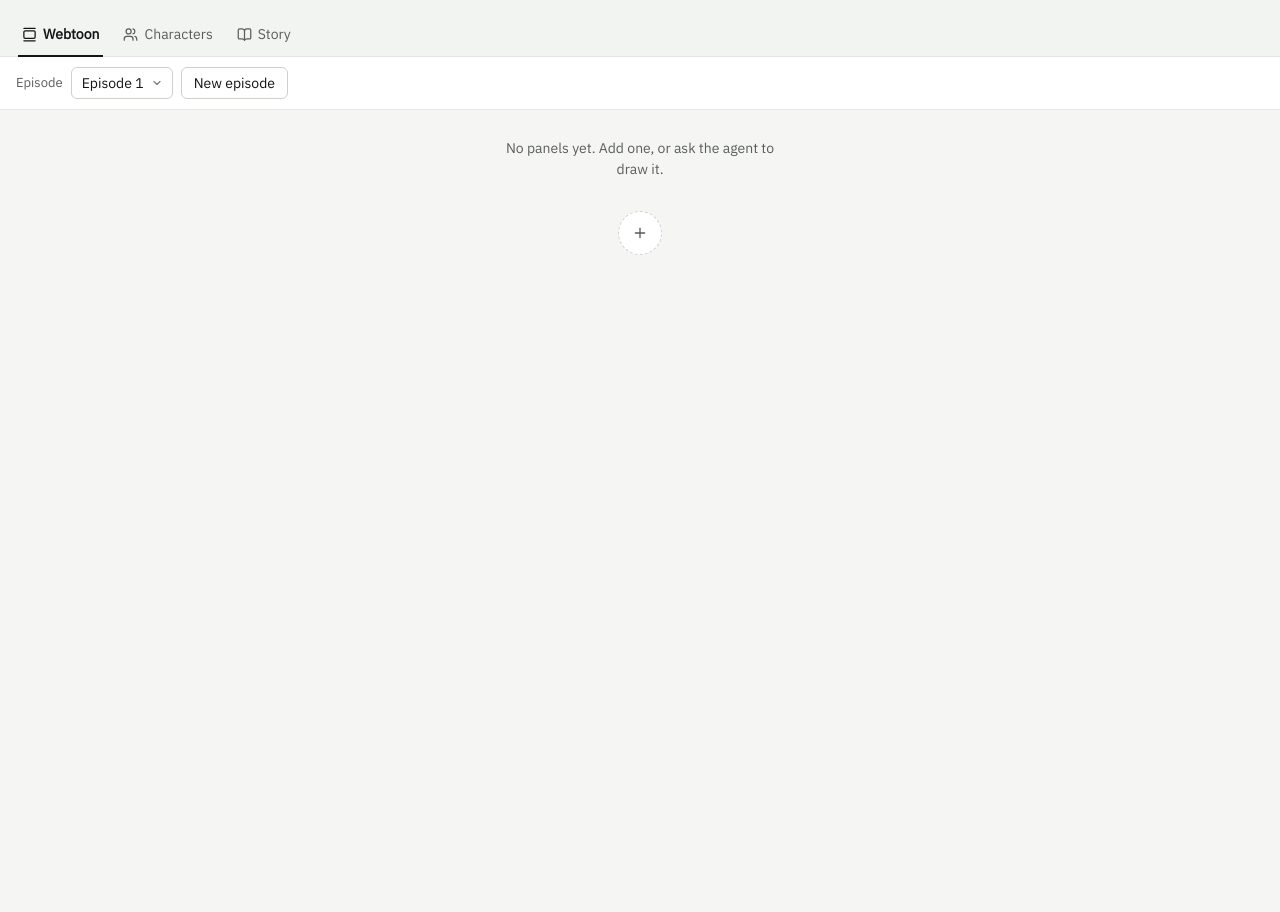
RightPane › switches between the Webtoon, Characters and Story tabs
Click the tab with test id "tab-characters" at (168, 34), box [114,12,223,56]
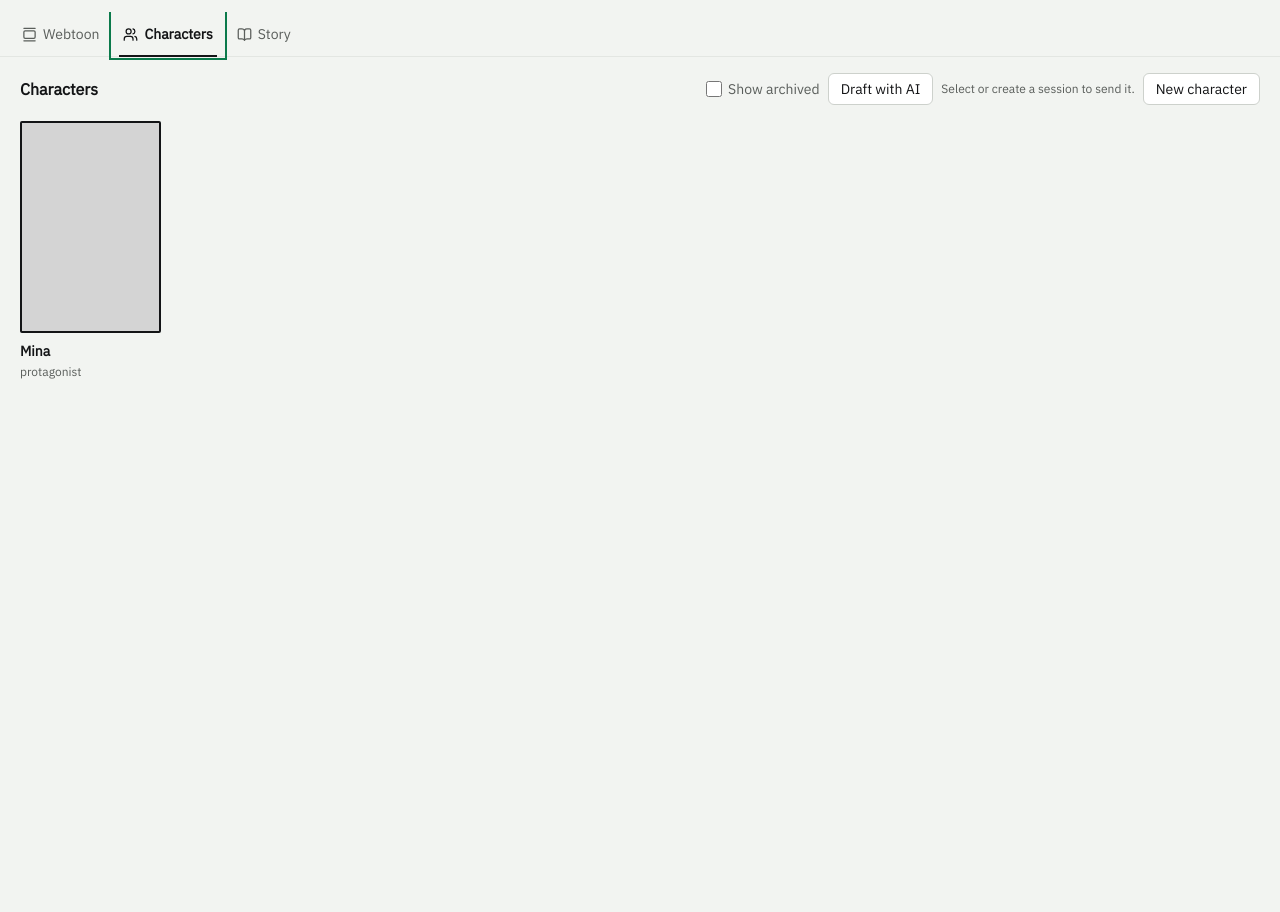
Expected: the tab with test id "tab-characters" is selected, [114,12,223,56]
Expected: the tab with test id "tab-webtoon" is not selected, [12,12,110,56]
Click the tab with test id "tab-story" at (264, 34), box [227,12,301,56]
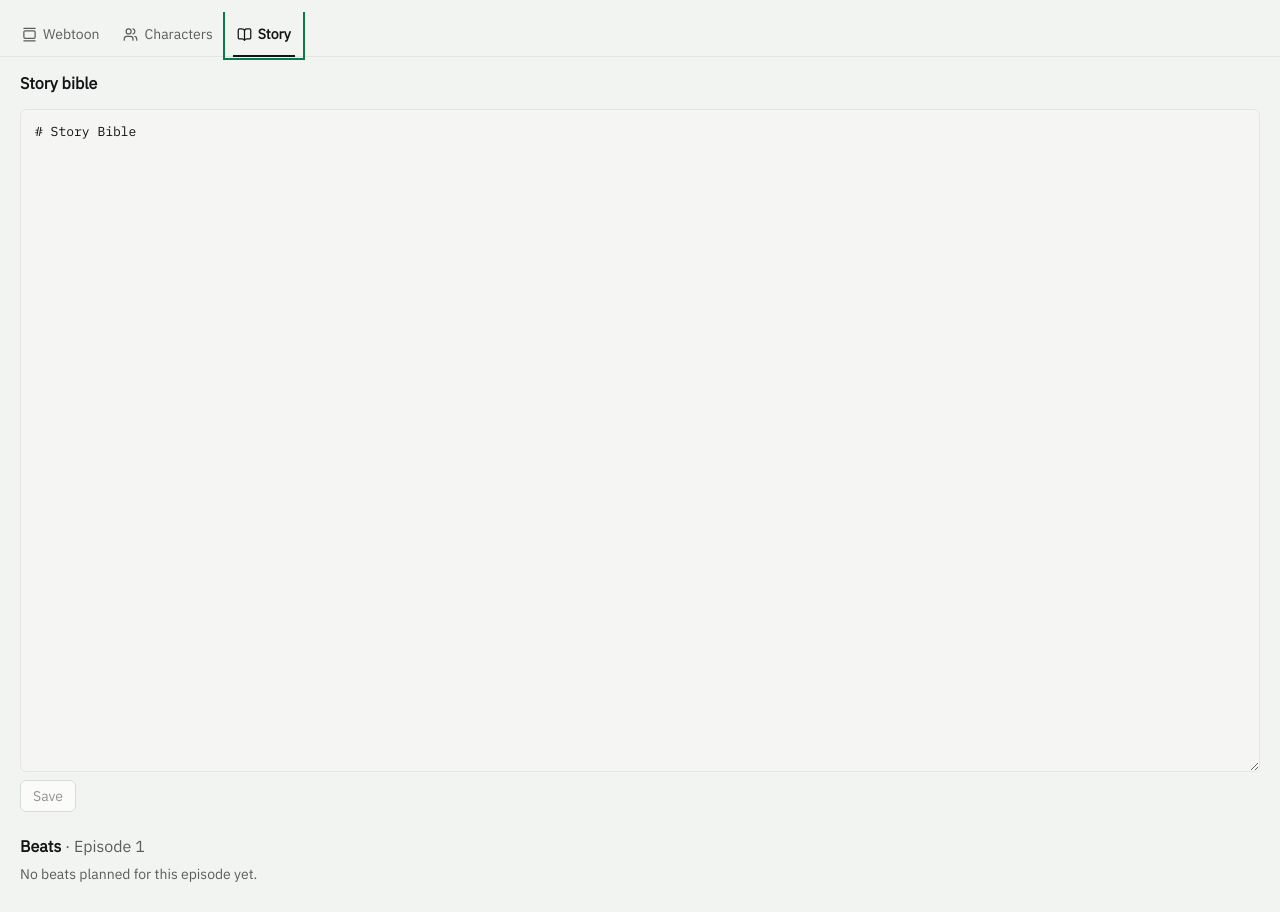
Expected: the button with test id "character-card" is gone
